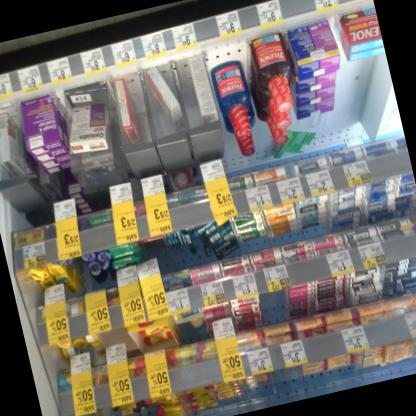empty_space: (338, 61, 372, 144), (271, 365, 308, 405), (204, 38, 248, 71), (86, 401, 121, 416)
